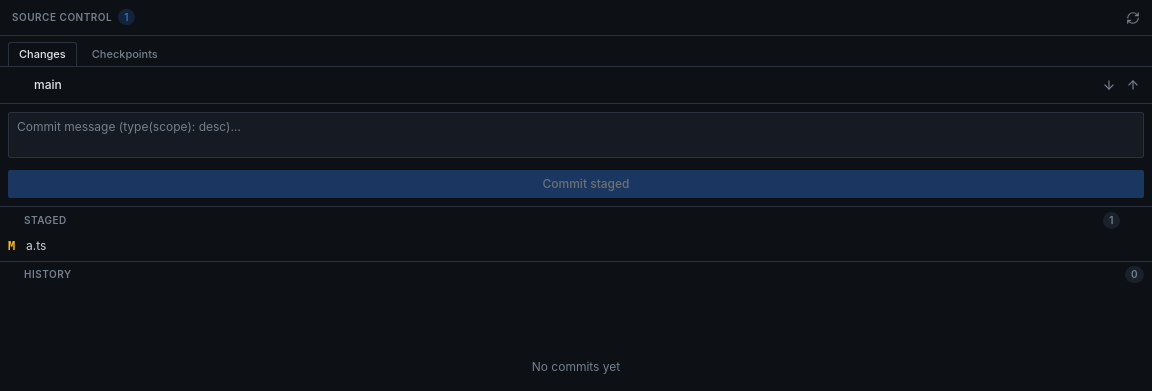
it: GitPane — Section collapse/expand › collapse/expand staged section toggles file visibility
Expected: the text "a.ts" is shown, [26, 238, 46, 253]
Click the text "Staged".
click(45, 220)  # box [24, 214, 67, 226]
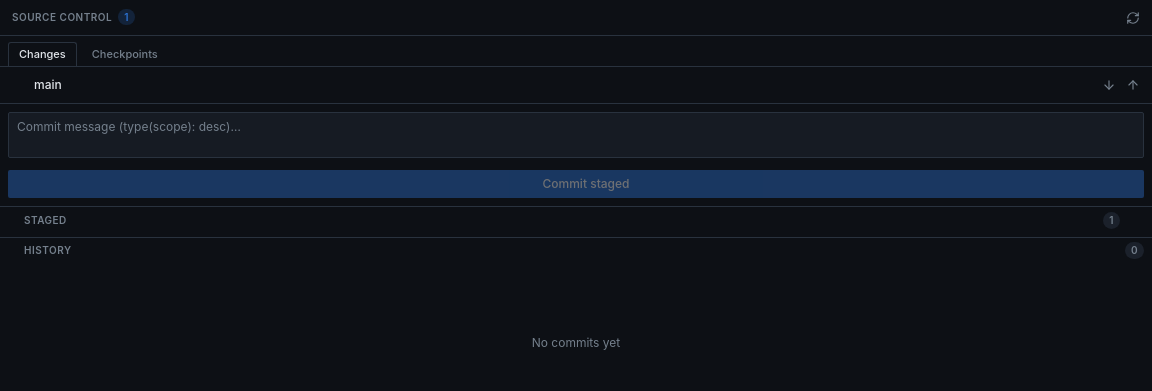
Now the text "a.ts" is gone
